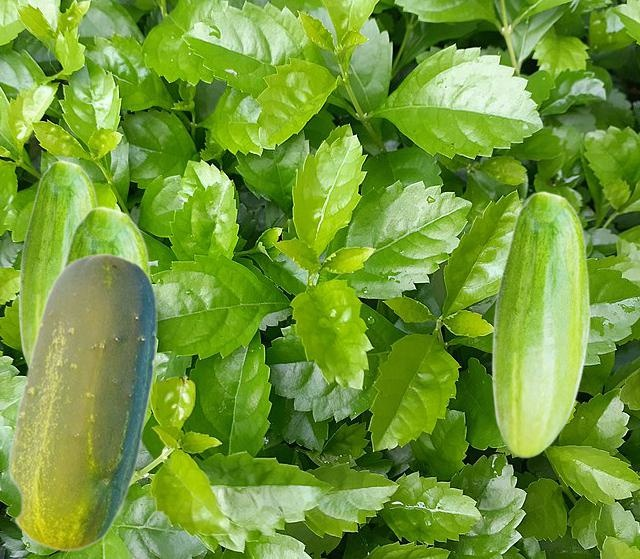cucumber: (7, 252, 156, 551), (491, 191, 589, 457), (61, 206, 154, 425), (18, 160, 98, 366)
